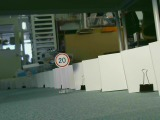speed_20: (53, 52, 70, 68)
